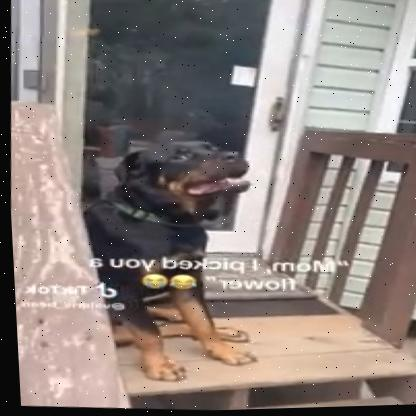dog: (89, 123, 268, 389)
